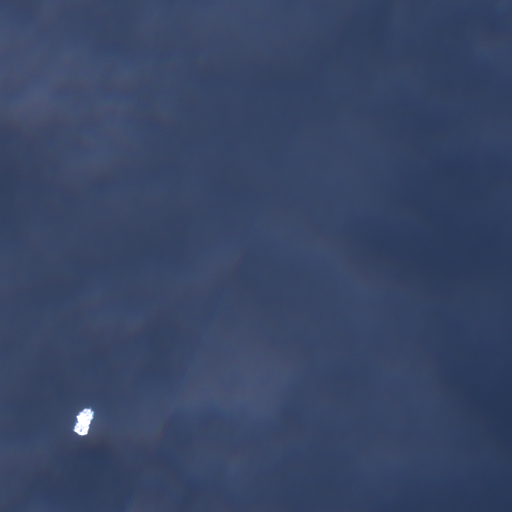Iceberg: (72, 406, 94, 435)
